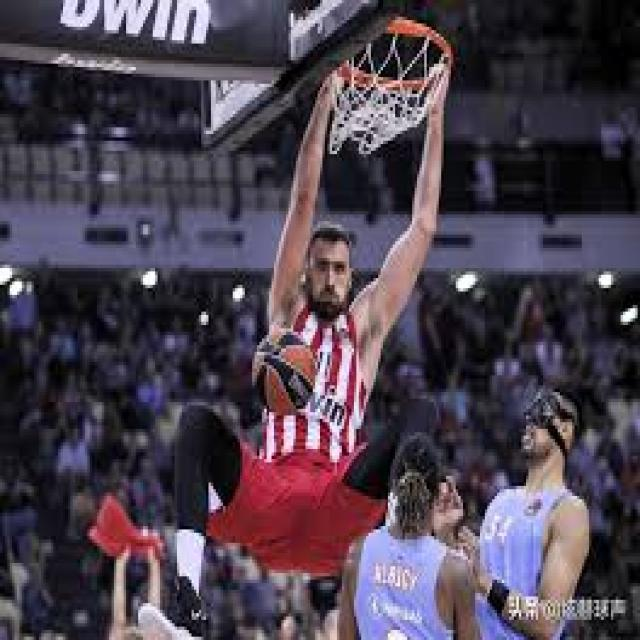rim: (257, 332, 315, 412)
